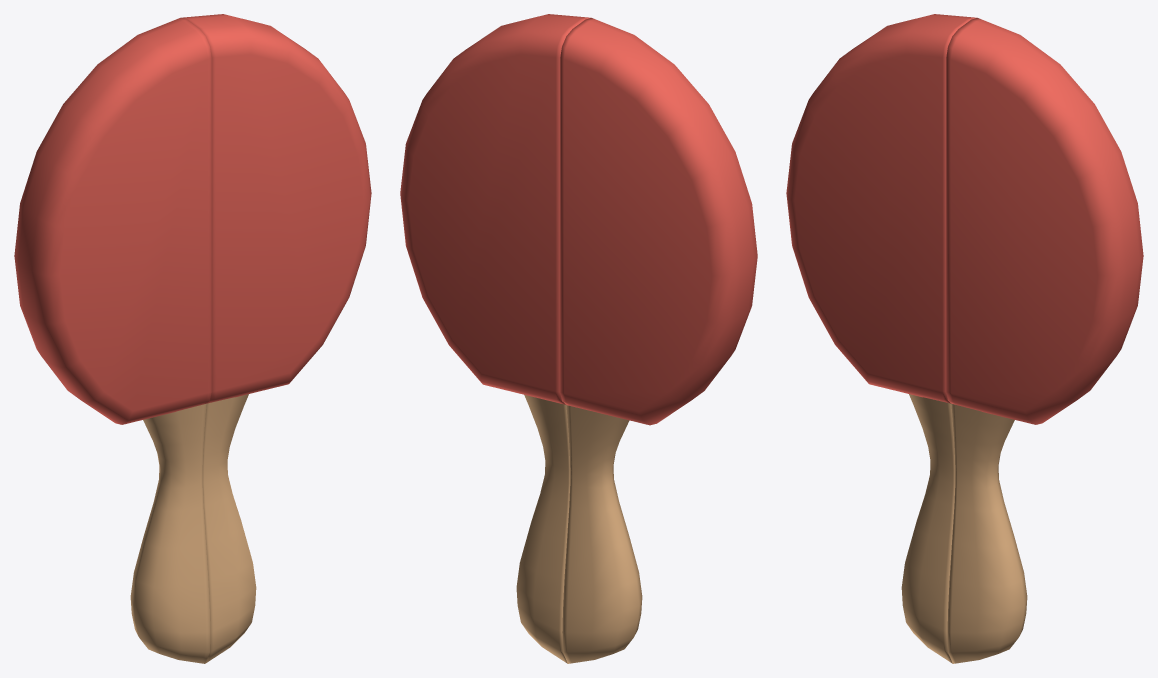
The model's file is SM_Racket_01a.fbx.
3 renders of one model, left to right at view 1: azimuth 30°, elevation 25°; view 2: azimuth 150°, elevation 25°; view 3: azimuth 330°, elevation 25°, orthographic.
Parts seen in each view (by area): view 1: Racket_02, Racket_01; view 2: Racket_02, Racket_01; view 3: Racket_01, Racket_02.
Boxes of the visible parts, left/top/right/bottom form: Racket_02: left=14, top=18, right=211, bottom=663; Racket_01: left=181, top=14, right=371, bottom=663; Racket_02: left=560, top=18, right=757, bottom=663; Racket_01: left=400, top=14, right=590, bottom=663; Racket_01: left=946, top=18, right=1143, bottom=663; Racket_02: left=786, top=14, right=976, bottom=663.
Size of the model in its own units: 15.17 by 27.39 by 2.91.
